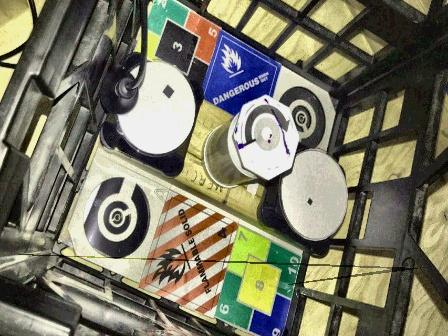dangerous-when-wet: (201, 29, 282, 137)
flammable-solid: (139, 188, 238, 321)
